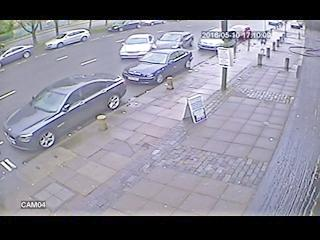Car: (9, 74, 125, 149), (126, 48, 194, 83), (198, 27, 238, 52), (119, 33, 157, 59), (45, 29, 90, 49), (1, 44, 34, 68), (156, 31, 194, 50), (108, 20, 141, 32), (229, 24, 252, 40), (141, 20, 160, 26)
Not Accident: (0, 26, 89, 69), (196, 21, 252, 51)
